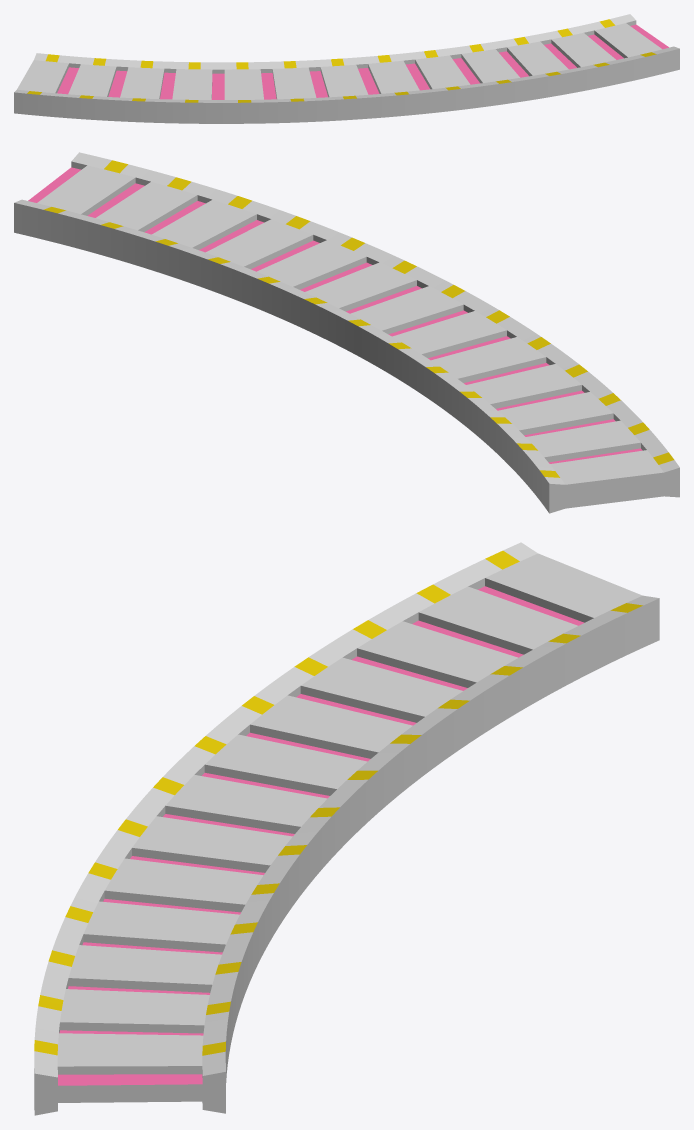
Rendered from curved bridge.fbx.
The picture shows the model from 3 angles, top to bottom: view 1: azimuth 30°, elevation 25°; view 2: azimuth 150°, elevation 25°; view 3: azimuth 270°, elevation 25°; orthographic projection. The views are drawn at different scales.
Visible parts, largest first — view 1: Cube; view 2: Cube; view 3: Cube.
Part boxes in pixels (box(x1,y1,x2,y2)): Cube: box(14, 14, 679, 123); Cube: box(14, 152, 679, 513); Cube: box(34, 542, 659, 1115).
Bounding box in the file's own units: 3111 × 115 × 1548.
